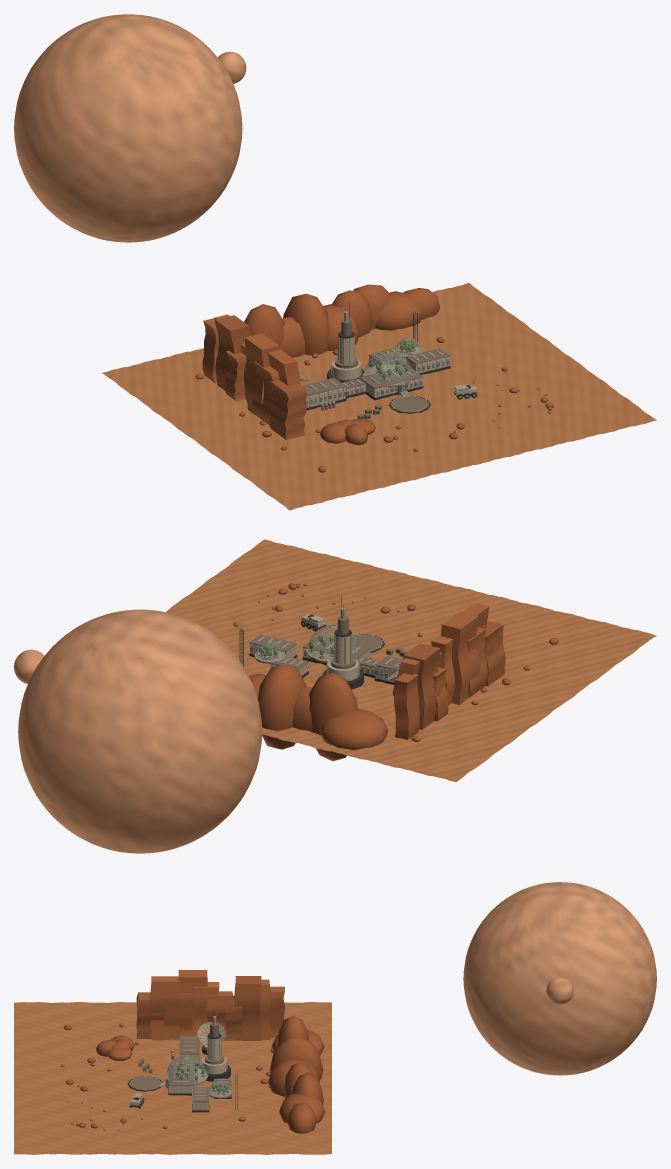
The model's file is Outpost7-V1.glb.
3 views of the same model, one above another, from view 1: azimuth 30°, elevation 25°; view 2: azimuth 150°, elevation 25°; view 3: azimuth 270°, elevation 25° (orthographic). The views are drawn at different scales.
Parts seen in each view (by area): view 1: 01 · Địa hình cát đỏ, 21 · Hành tinh lớn, 02 · Vách đá trái 10, 03 · Núi xa 4, 02 · Vách đá trái 7, 02 · Vách đá trái 3, 04 · Tháp nghiên cứu trung tâm, 10 · Nhà kính lớn + khung vòm + cây, 03 · Núi xa 8, 07 · Khối nhà kính chính, 20 · Tảng đá tiền cảnh trái, 03 · Núi xa 2 (+9 smaller); view 2: 21 · Hành tinh lớn, 01 · Địa hình cát đỏ, 03 · Núi xa 4, 02 · Vách đá trái 7, 03 · Núi xa 2, 03 · Núi xa 1, 02 · Vách đá trái 3, 04 · Tháp nghiên cứu trung tâm, 02 · Vách đá trái 1, 02 · Vách đá trái 10, 10 · Nhà kính lớn + khung vòm + cây, 02 · Vách đá trái 8 (+8 smaller); view 3: 01 · Địa hình cát đỏ, 21 · Hành tinh lớn, 02 · Vách đá trái 3, 02 · Vách đá trái 9, 03 · Núi xa 4, 04 · Tháp nghiên cứu trung tâm, 10 · Nhà kính lớn + khung vòm + cây, 02 · Vách đá trái 8, 02 · Vách đá trái 6, 02 · Vách đá trái 5, 02 · Vách đá trái 10, 03 · Núi xa 9 (+15 smaller).
Part boxes in pixels (<box>): 01 · Địa hình cát đỏ: <box>102,283,656,510</box>; 21 · Hành tinh lớn: <box>14,14,242,242</box>; 02 · Vách đá trái 10: <box>269,380,307,439</box>; 03 · Núi xa 4: <box>283,293,329,355</box>; 02 · Vách đá trái 7: <box>245,333,279,414</box>; 02 · Vách đá trái 3: <box>215,315,251,390</box>; 04 · Tháp nghiên cứu trung tâm: <box>327,301,364,382</box>; 10 · Nhà kính lớn + khung vòm + cây: <box>362,351,412,387</box>; 03 · Núi xa 8: <box>375,291,422,330</box>; 07 · Khối nhà kính chính: <box>360,366,423,400</box>; 20 · Tảng đá tiền cảnh trái: <box>320,418,375,444</box>; 03 · Núi xa 2: <box>244,304,284,348</box>; 21 · Hành tinh lớn: <box>18,609,262,853</box>; 01 · Địa hình cát đỏ: <box>166,539,656,781</box>; 03 · Núi xa 4: <box>257,664,306,749</box>; 02 · Vách đá trái 7: <box>440,611,479,704</box>; 03 · Núi xa 2: <box>309,673,357,761</box>; 03 · Núi xa 1: <box>319,708,388,749</box>; 02 · Vách đá trái 3: <box>403,643,440,729</box>; 04 · Tháp nghiên cứu trung tâm: <box>322,596,363,689</box>; 02 · Vách đá trái 1: <box>394,673,419,739</box>; 02 · Vách đá trái 10: <box>485,621,505,686</box>; 10 · Nhà kính lớn + khung vòm + cây: <box>306,625,358,662</box>; 02 · Vách đá trái 8: <box>467,627,487,697</box>; 01 · Địa hình cát đỏ: <box>14,1002,331,1154</box>; 21 · Hành tinh lớn: <box>463,882,656,1075</box>; 02 · Vách đá trái 3: <box>234,976,261,1040</box>; 02 · Vách đá trái 9: <box>149,976,179,1040</box>; 03 · Núi xa 4: <box>269,1036,323,1080</box>; 04 · Tháp nghiên cứu trung tâm: <box>199,1008,230,1081</box>; 10 · Nhà kính lớn + khung vòm + cây: <box>165,1055,208,1085</box>; 02 · Vách đá trái 8: <box>164,993,193,1040</box>; 02 · Vách đá trái 6: <box>192,982,219,1035</box>; 02 · Vách đá trái 5: <box>206,991,233,1040</box>; 02 · Vách đá trái 10: <box>136,992,164,1038</box>; 03 · Núi xa 9: <box>287,1102,316,1133</box>.
Bounding box in the file's own units: 130 × 81.48 × 232.
